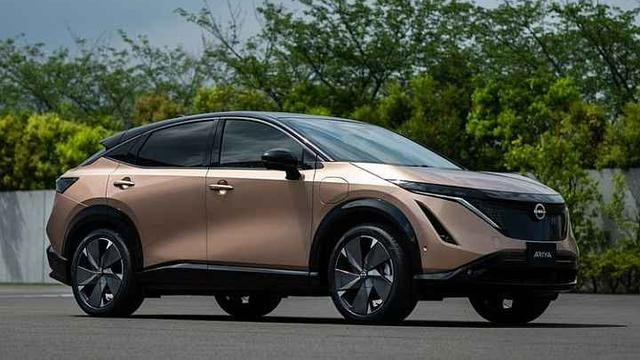mobil: (48, 79, 582, 336)
